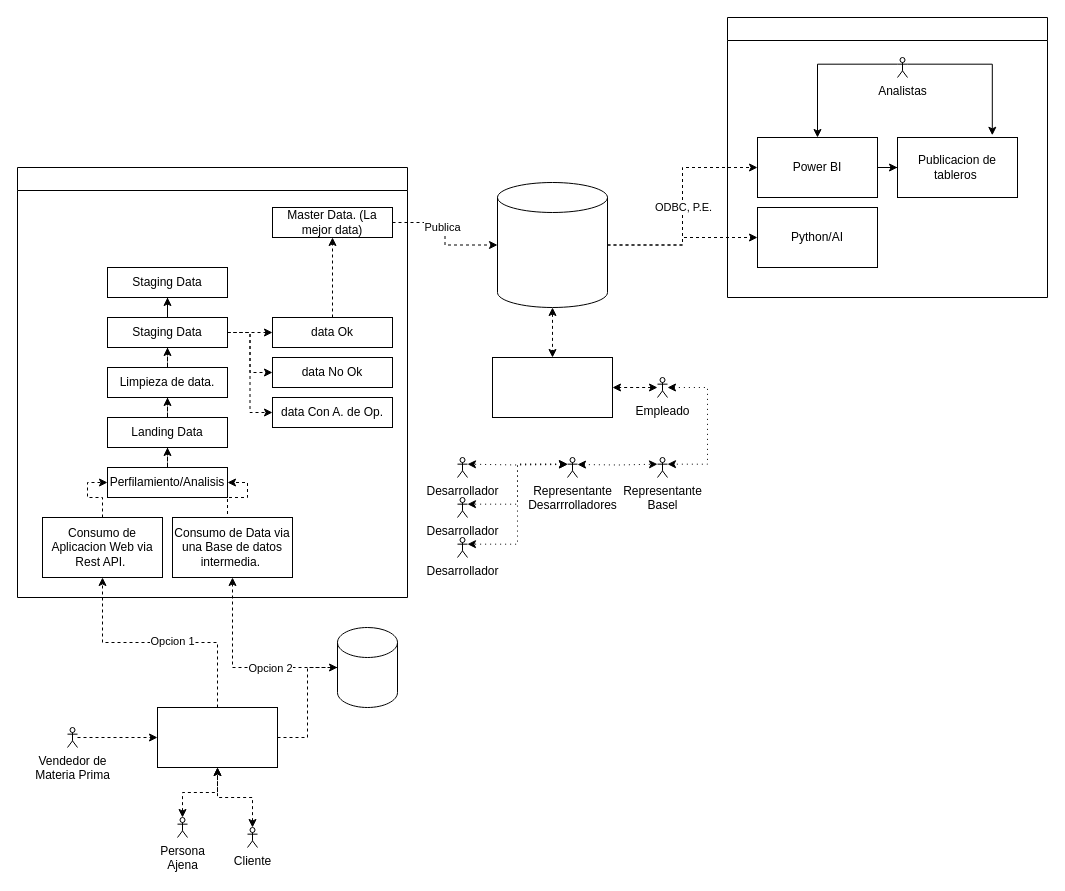
Some shapes in this 1065 by 891 pixel diagram are drawn without their labels. Each missing label, with the centre of its shape:
Aplicacion Web desarrollada para empleados.: (552,387)
Aplicacion Web Desarrollada. Cuenta con seguridad.: (217,737)
Base de Datos 1.: (367,667)
Base de datos segura y resguardada: (552,245)
MDM Process: (212,382)
Vertical Container: (887,157)
